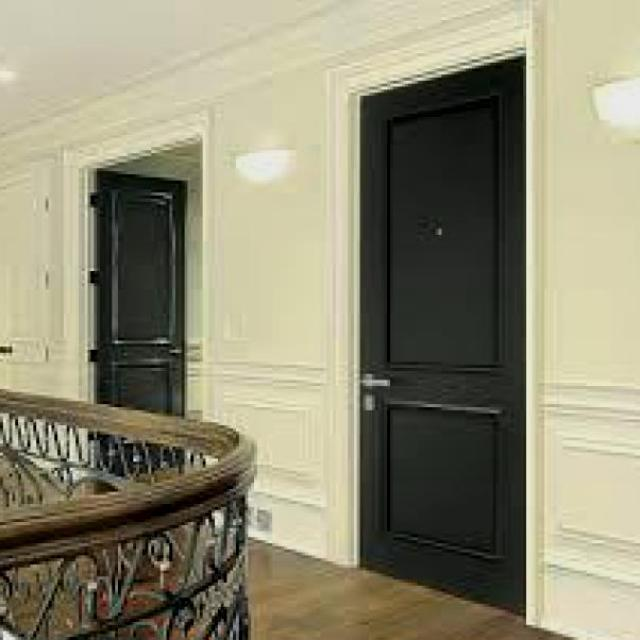door: (357, 55, 527, 617)
